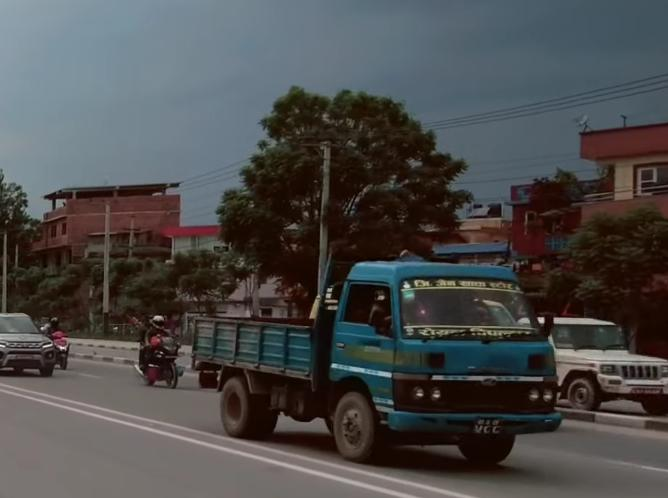bike: (125, 311, 183, 393)
car: (0, 304, 53, 378)
mini_truck: (180, 243, 564, 474)
scooter: (45, 315, 73, 370)
transport_vehicle: (546, 296, 668, 432)
